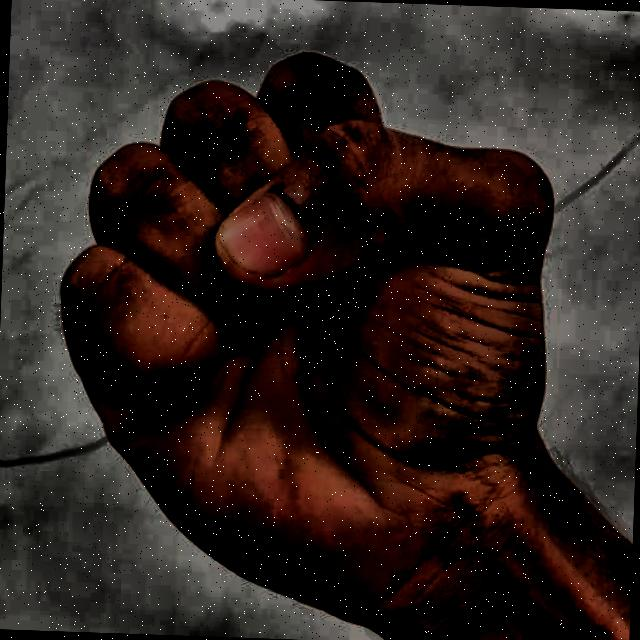Sha: (20, 19, 588, 640)
